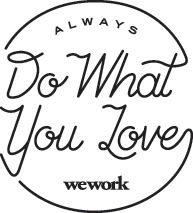wework: (61, 174, 130, 192)
